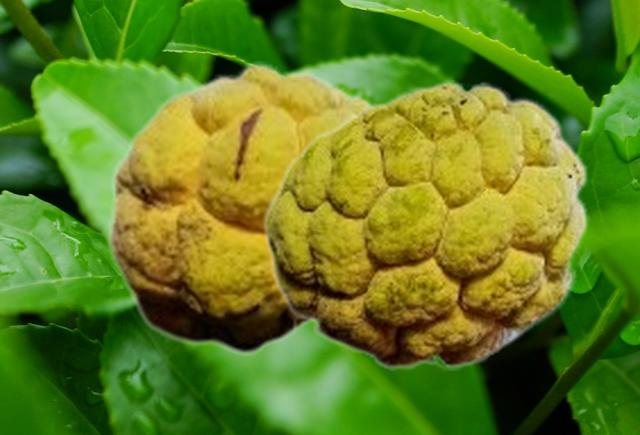atis: (261, 80, 588, 369), (105, 61, 378, 354)
